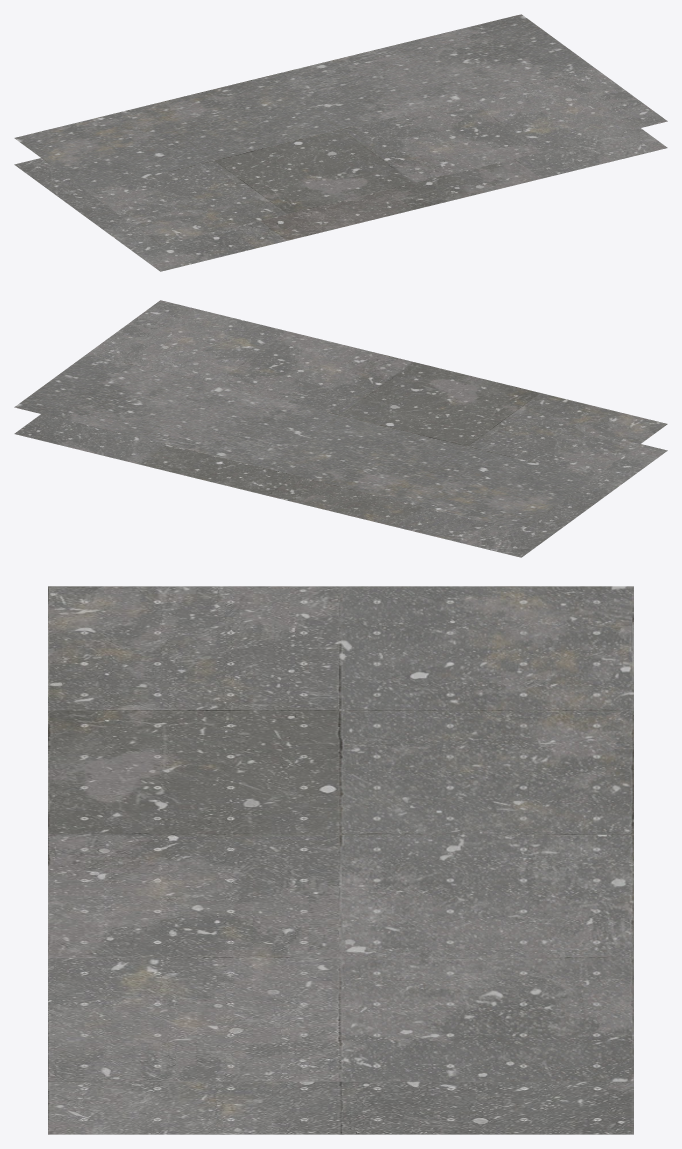
The model's file is SM_Floor_Half_200u.glb.
The picture shows the model from 3 angles, top to bottom: view 1: azimuth 30°, elevation 25°; view 2: azimuth 150°, elevation 25°; view 3: azimuth 270°, elevation 25°; orthographic projection. The views are drawn at different scales.
Parts seen in each view (by area): view 1: SM_Floor_Half_200u; view 2: SM_Floor_Half_200u; view 3: SM_Floor_Half_200u.
Boxes of the visible parts, x1,y1,x2,y2 form: SM_Floor_Half_200u: (14, 14, 667, 271); SM_Floor_Half_200u: (14, 300, 667, 557); SM_Floor_Half_200u: (48, 586, 633, 1134).
Bounding box in the file's own units: 2.6 × 0.13 × 1.3.
2 materials, 2 textured.
